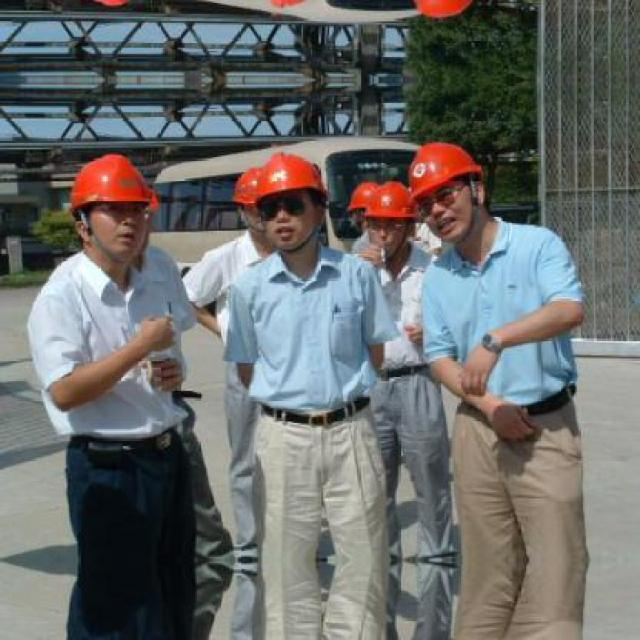helmet: (67, 148, 151, 264), (408, 138, 490, 247), (257, 146, 328, 254), (363, 178, 415, 253), (230, 164, 268, 236), (408, 0, 492, 23), (348, 179, 375, 233)
